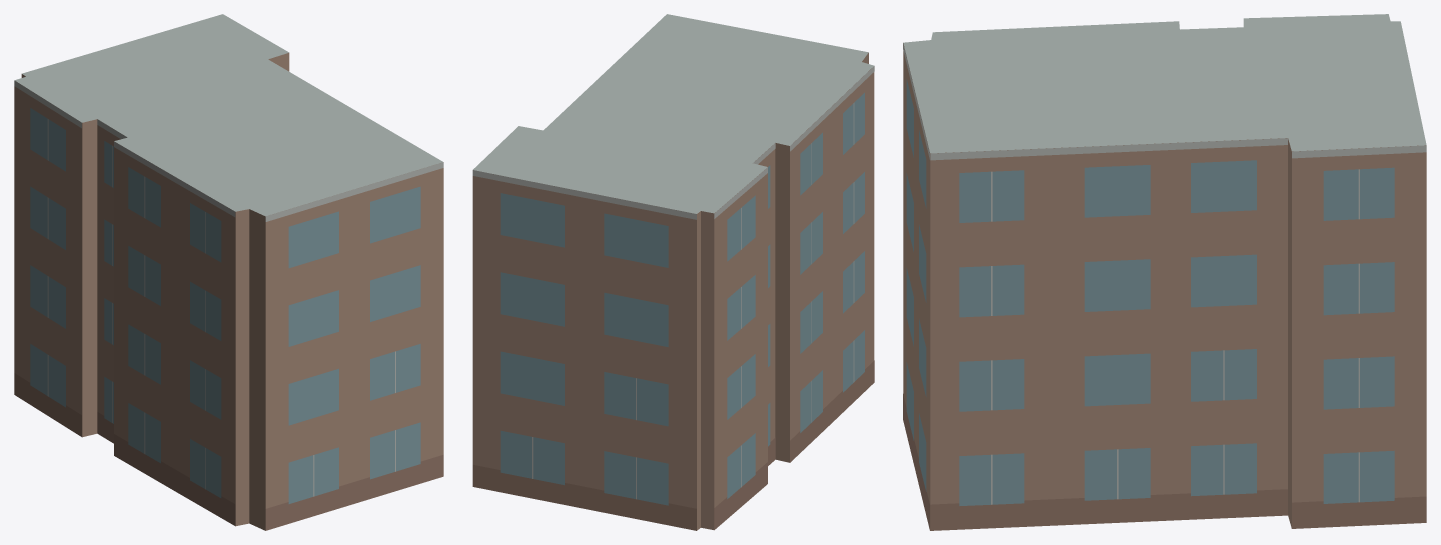
The model's file is survey-upis-32927139.glb.
The picture shows the model from 3 angles, left to right: view 1: azimuth 30°, elevation 25°; view 2: azimuth 150°, elevation 25°; view 3: azimuth 270°, elevation 25°; orthographic projection. The views are drawn at different scales.
Parts seen in each view (by area): view 1: survey-upis-32927139.tmp; view 2: survey-upis-32927139.tmp; view 3: survey-upis-32927139.tmp.
Boxes of the visible parts, x1=… form: survey-upis-32927139.tmp: x1=14, y1=14, x2=443, y2=530; survey-upis-32927139.tmp: x1=472, y1=14, x2=874, y2=530; survey-upis-32927139.tmp: x1=903, y1=14, x2=1426, y2=530.
Bounding box in the file's own units: 10.47 × 13.2 × 16.6.
